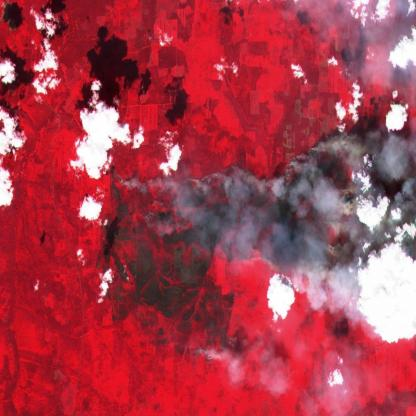fire: (109, 127, 357, 278), (188, 294, 239, 363)
